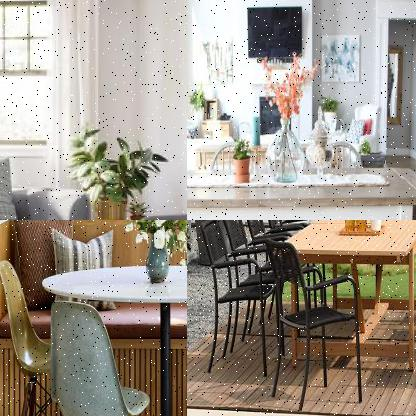table: (39, 260, 186, 415), (269, 220, 415, 373), (187, 159, 415, 219)
